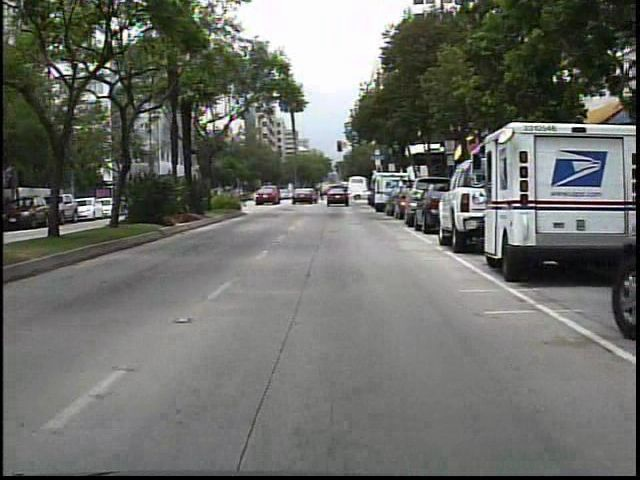person: (306, 181, 322, 206), (319, 184, 323, 204)
